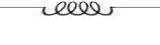inductor: (37, 0, 114, 19)
